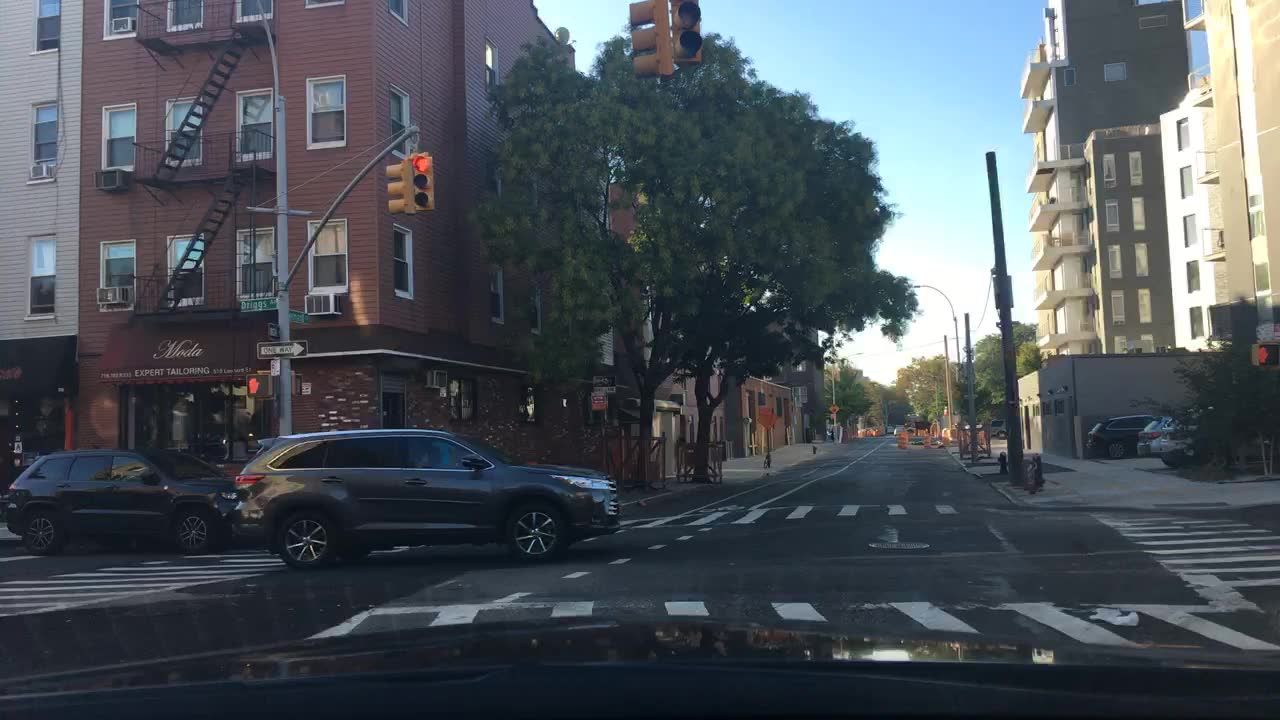car: (231, 424, 619, 568), (5, 445, 236, 553), (1137, 405, 1216, 455), (1087, 411, 1165, 459), (987, 416, 1014, 437), (892, 422, 906, 435), (868, 426, 881, 435), (885, 424, 894, 434), (906, 426, 916, 435)
traffic light: (627, 2, 673, 77), (671, 0, 704, 64), (409, 151, 435, 210), (384, 162, 411, 215), (245, 371, 276, 399), (1248, 343, 1277, 367), (290, 370, 305, 395)
traffic sign: (257, 340, 307, 355), (591, 372, 616, 393), (242, 296, 277, 310), (757, 407, 776, 428), (592, 390, 606, 410), (289, 309, 311, 321), (267, 322, 280, 335), (828, 402, 839, 415)
